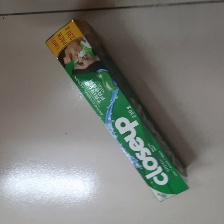CloseUp Xanh: (44, 19, 190, 203)
